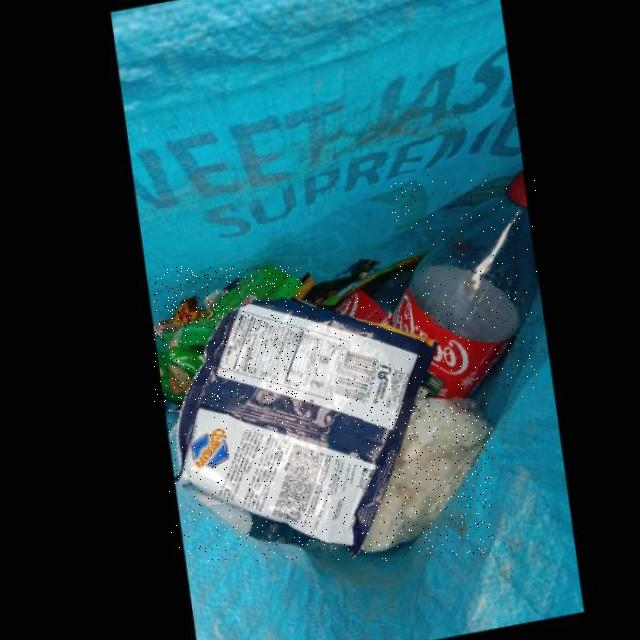biowaste: (363, 402, 493, 555)
plastic: (391, 172, 538, 403)
wrapper: (169, 298, 436, 561), (155, 266, 302, 403)
